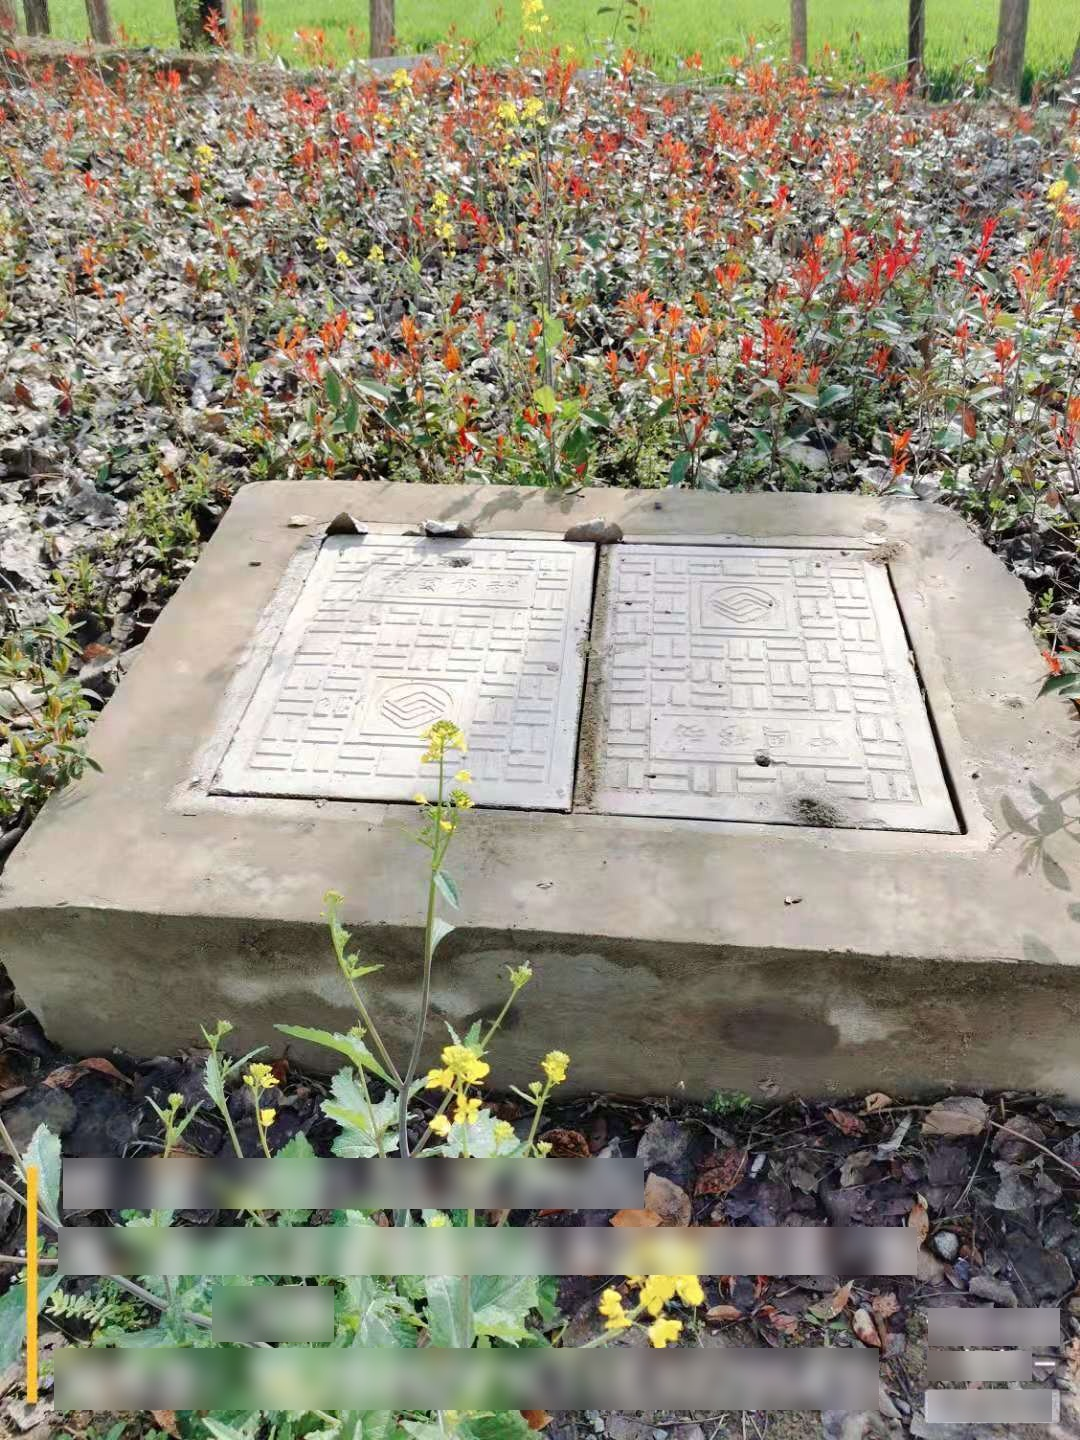good: (172, 524, 994, 852)
